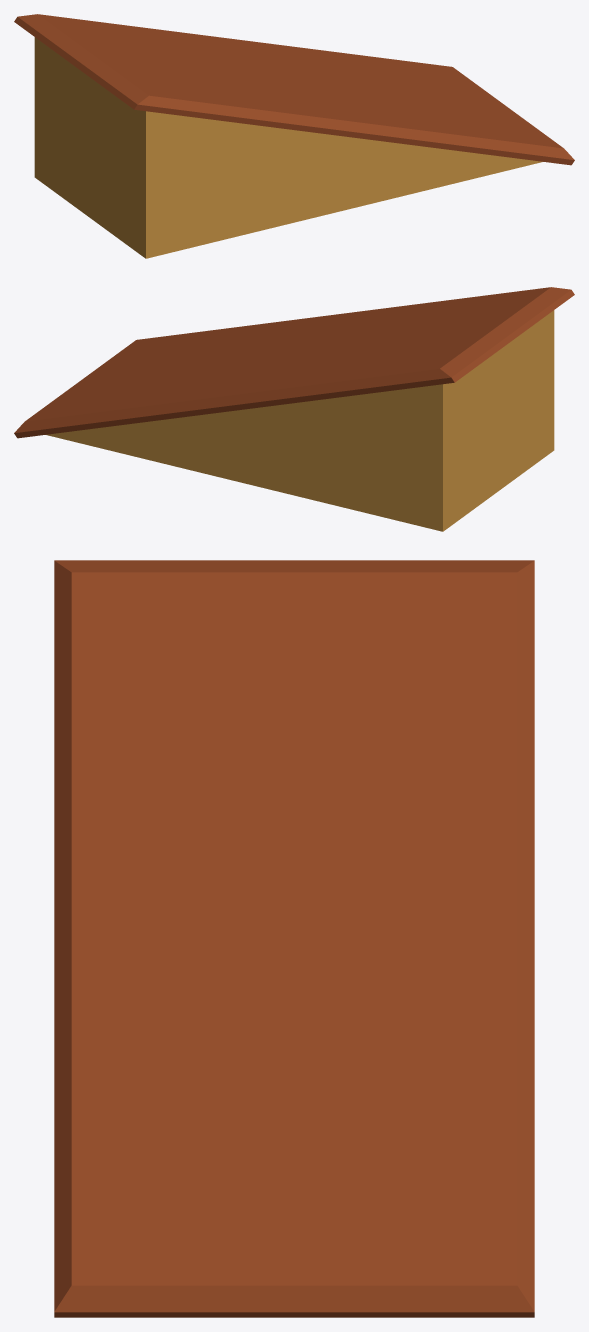
File: Tremplin.fbx
The picture shows the model from 3 angles, top to bottom: view 1: azimuth 30°, elevation 25°; view 2: azimuth 150°, elevation 25°; view 3: azimuth 270°, elevation 25°; orthographic projection. The views are drawn at different scales.
Parts seen in each view (by area): view 1: Tremplin; view 2: Tremplin; view 3: Tremplin.
Boxes of the visible parts, box(x1,y1,x2,y2) form: Tremplin: box(14, 14, 574, 258); Tremplin: box(14, 287, 574, 531); Tremplin: box(54, 560, 534, 1317).
Size of the model in its own units: 1187 by 434 by 560.
